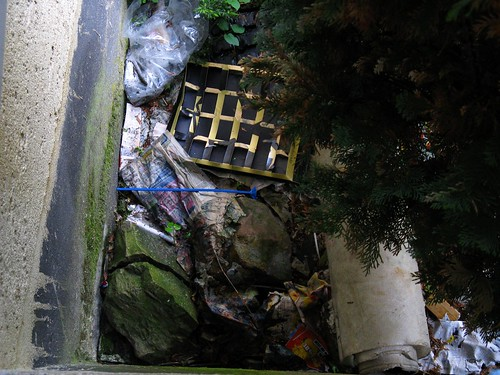rocks: (84, 196, 280, 369)
trash: (90, 4, 361, 365)
tree: (245, 6, 500, 333)
